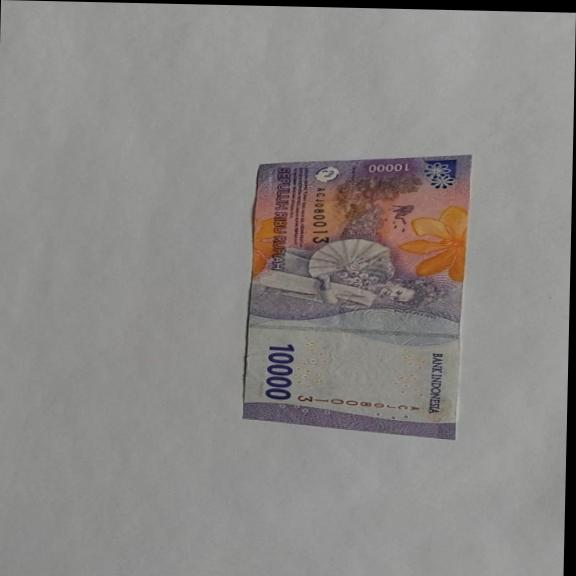Kertas: (241, 150, 472, 441), (262, 343, 298, 401)
